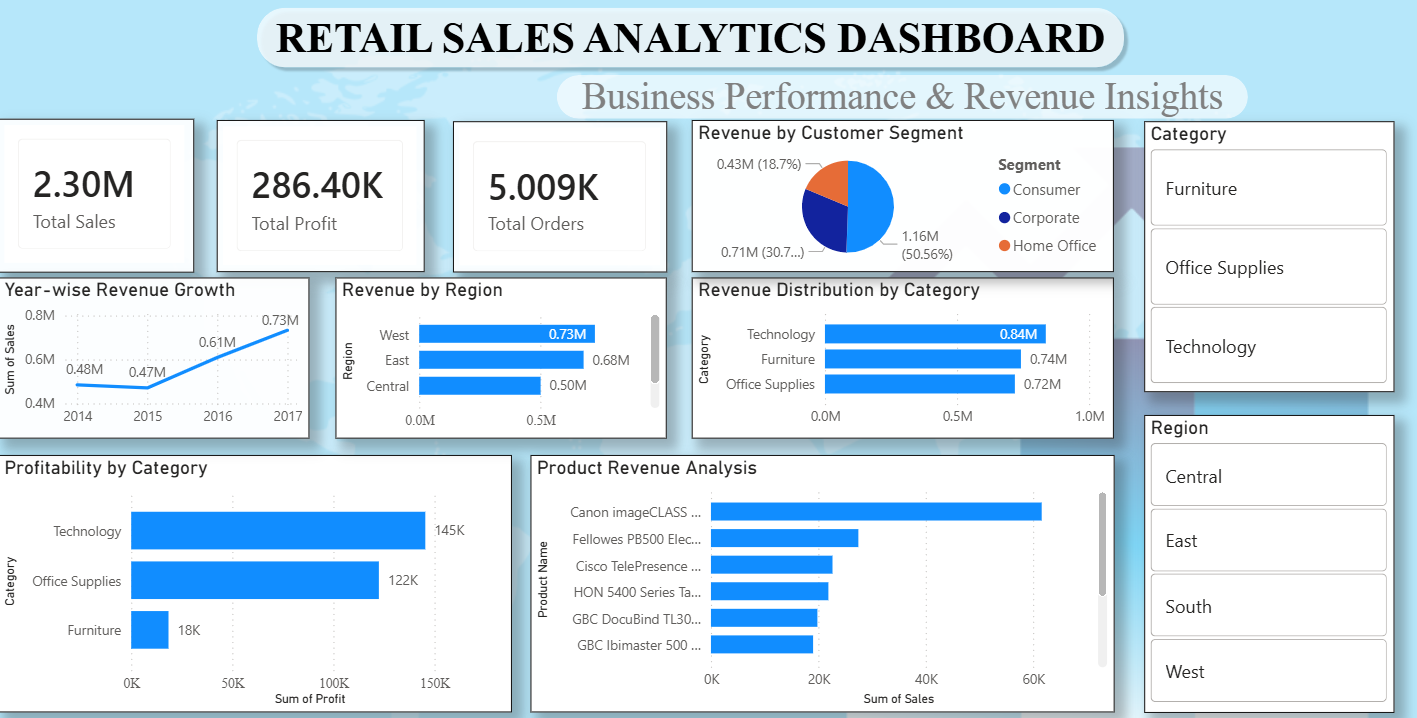

Layout of this report page (visuals, bound fields, positions):
{"tool":"powerbi","page":{"name":"Page 1","canvas":[1280,720],"ordinal":0},"visuals":[{"type":"cardVisual","fields":{"Data":["Sum(SuperStore.Sales)"]},"box":[0,105.6,174.4,136.7],"z":0},{"type":"cardVisual","fields":{"Data":["Sum(SuperStore.Profit)"]},"box":[194.4,106.7,184.4,135.6],"z":1000},{"type":"cardVisual","fields":{"Data":["Count(SuperStore.Order ID)"]},"box":[404.4,107.8,190,134.4],"z":2000},{"type":"barChart","title":"Revenue Distribution by Category","fields":{"Category":["SuperStore.Category"],"Y":["Sum(SuperStore.Sales)"]},"box":[616.7,246.7,375.6,143.3],"z":3000},{"type":"barChart","title":"Profitability by Category","fields":{"Category":["SuperStore.Category"],"Y":["Sum(SuperStore.Profit)"]},"box":[0,404.4,456.7,228.9],"z":4000},{"type":"barChart","title":"Revenue by Region","fields":{"Category":["SuperStore.Region"],"Y":["Sum(SuperStore.Sales)"]},"box":[300,246.7,294.4,143.3],"z":5000},{"type":"pieChart","title":"Revenue by Customer Segment","fields":{"Category":["SuperStore.Segment"],"Y":["Sum(SuperStore.Sales)"]},"box":[616.7,106.7,375.6,135.6],"z":6000},{"type":"lineChart","title":"Year-wise Revenue Growth","fields":{"Category":["SuperStore.Order Date.Variation.Date Hierarchy.Year","SuperStore.Order Date.Variation.Date Hierarchy.Quarter","SuperStore.Order Date.Variation.Date Hierarchy.Month","SuperStore.Order Date.Variation.Date Hierarchy.Day"],"Y":["Sum(SuperStore.Sales)"]},"box":[0,246.7,276.7,143.3],"z":7000},{"type":"clusteredBarChart","title":"Product Revenue Analysis","fields":{"Category":["SuperStore.Product Name"],"Y":["Sum(SuperStore.Sales)"]},"box":[473.3,404.4,518.9,228.9],"z":8000},{"type":"advancedSlicerVisual","fields":{"Values":["SuperStore.Region"]},"box":[1018.9,368.9,222.2,264.4],"z":9000},{"type":"advancedSlicerVisual","fields":{"Values":["SuperStore.Category"]},"box":[1018.9,107.8,222.2,241.1],"z":10000},{"type":"shape","box":[223.3,0,784.4,66.7],"z":11000},{"type":"shape","box":[496.7,66.7,614.4,38.9],"z":12000}]}

Visuals, with their boxes on the page's 1280x720 design canvas (x1, y1, x2, y2). These are canvas units, not pixel positions in the 1417x718 screenshot, which may show the page scaled, cropped or inside an application window:
cardVisual - Sum(SuperStore.Sales): select_region(0, 106, 174, 242)
cardVisual - Sum(SuperStore.Profit): select_region(194, 107, 379, 242)
cardVisual - Count(SuperStore.Order ID): select_region(404, 108, 594, 242)
"Revenue Distribution by Category" barChart: select_region(617, 247, 992, 390)
"Profitability by Category" barChart: select_region(0, 404, 457, 633)
"Revenue by Region" barChart: select_region(300, 247, 594, 390)
"Revenue by Customer Segment" pieChart: select_region(617, 107, 992, 242)
"Year-wise Revenue Growth" lineChart: select_region(0, 247, 277, 390)
"Product Revenue Analysis" clusteredBarChart: select_region(473, 404, 992, 633)
advancedSlicerVisual - SuperStore.Region: select_region(1019, 369, 1241, 633)
advancedSlicerVisual - SuperStore.Category: select_region(1019, 108, 1241, 349)
shape: select_region(223, 0, 1008, 67)
shape: select_region(497, 67, 1111, 106)
